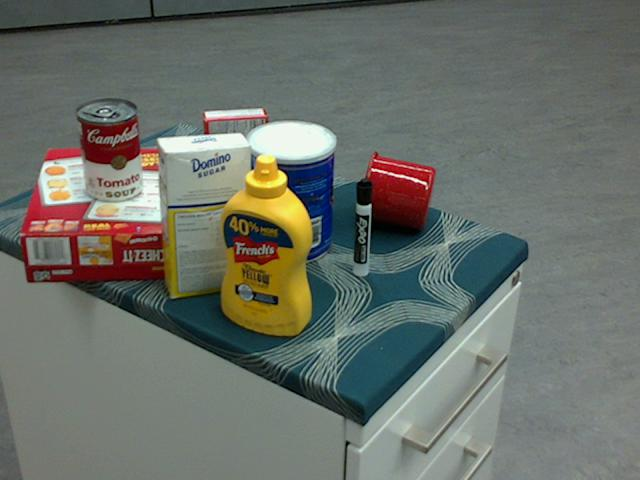cracker_box: (19, 146, 177, 283)
gelatin_box: (202, 108, 267, 166)
large_marker: (354, 178, 372, 276)
master_chef_can: (244, 119, 334, 265)
mug: (358, 149, 435, 229)
mustard_bottle: (221, 153, 313, 336)
potted_meat_can: (244, 130, 326, 213)
sugar_box: (156, 131, 251, 297)
tomato_soup_can: (75, 98, 142, 203)
tuna_fish_can: (174, 151, 212, 221)
